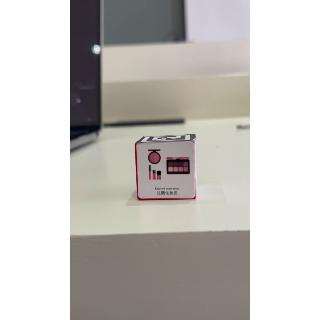Expired_Cosmetic: (138, 144, 199, 200)
